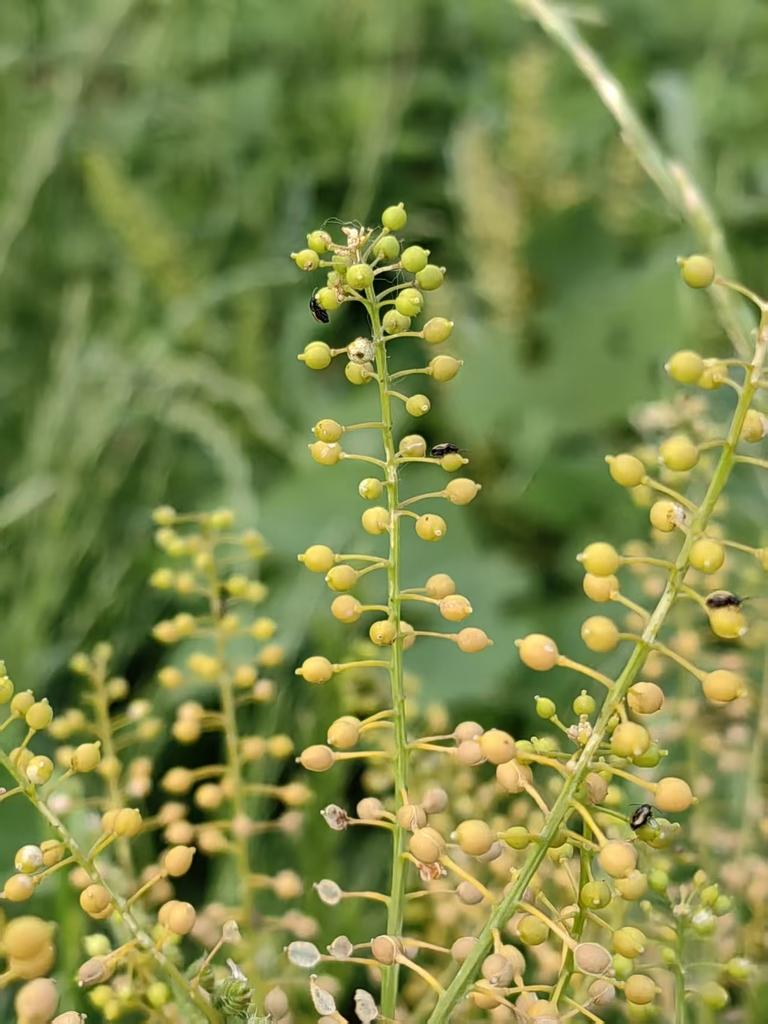flea_beetle: (620, 791, 665, 835), (699, 583, 757, 614), (300, 286, 338, 329), (426, 434, 465, 460)
